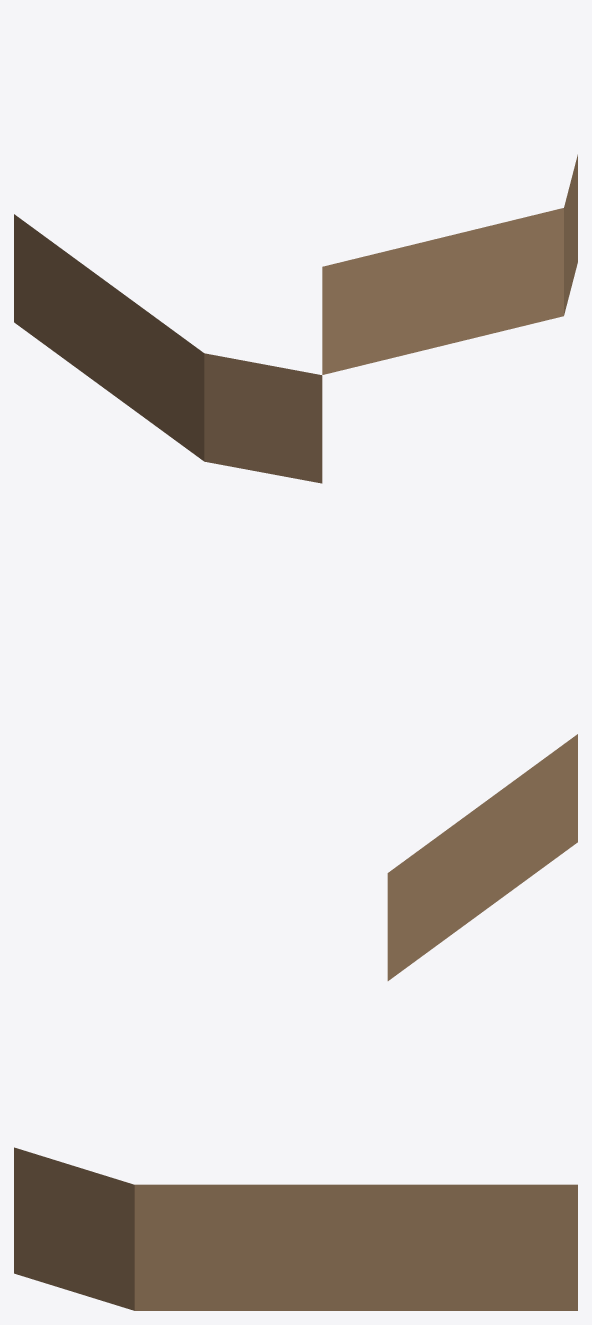
File: 1295-Buildings-shell-pieces-facade-bay-wall-round-an-opening-reveals-sill-head-emitBa.glb
3 views of the same model, one above another, from view 1: azimuth 30°, elevation 25°; view 2: azimuth 150°, elevation 25°; view 3: azimuth 270°, elevation 25° (orthographic). The views are drawn at different scales.
Visible parts, largest first — view 1: emitBay; view 2: emitBay; view 3: emitBay.
Boxes of the visible parts, x1=… form: emitBay: x1=14, y1=154, x2=577, y2=483; emitBay: x1=387, y1=734, x2=577, y2=980; emitBay: x1=14, y1=1147, x2=577, y2=1310.
Size of the model in its own units: 11 by 6.1 by 12.35.
